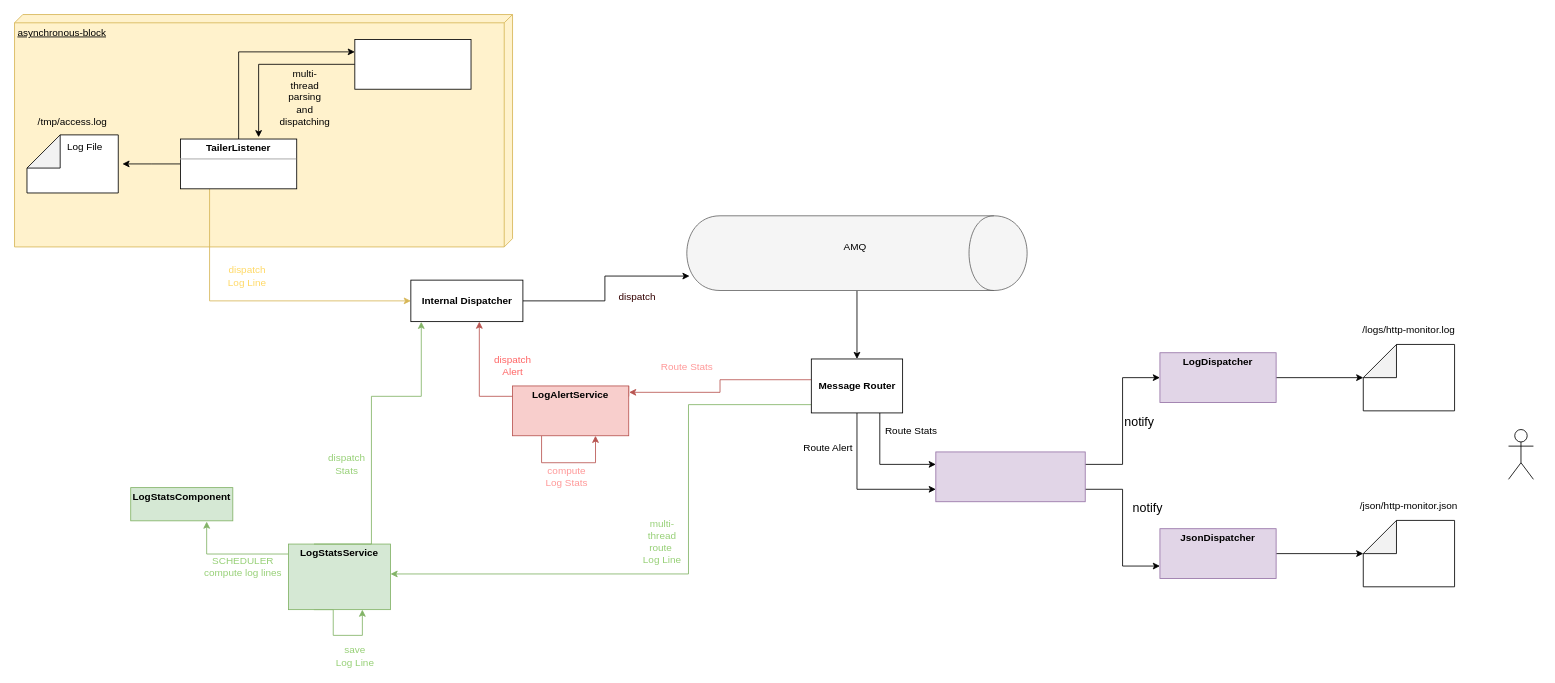
Some shapes in this 1555 by 683 pixel diagram are drawn without their labels. The shapes that lost their labels are listed below. From the top down, each one's centre as x and y in pixels, then its label:
At [412,64]: "LogLineParser".
At [1408,377]: "Output Log File".
At [1520,454]: "end-user".
At [1010,476]: "ExternalDispatcherObserver".
At [1408,553]: "Output Json File".
